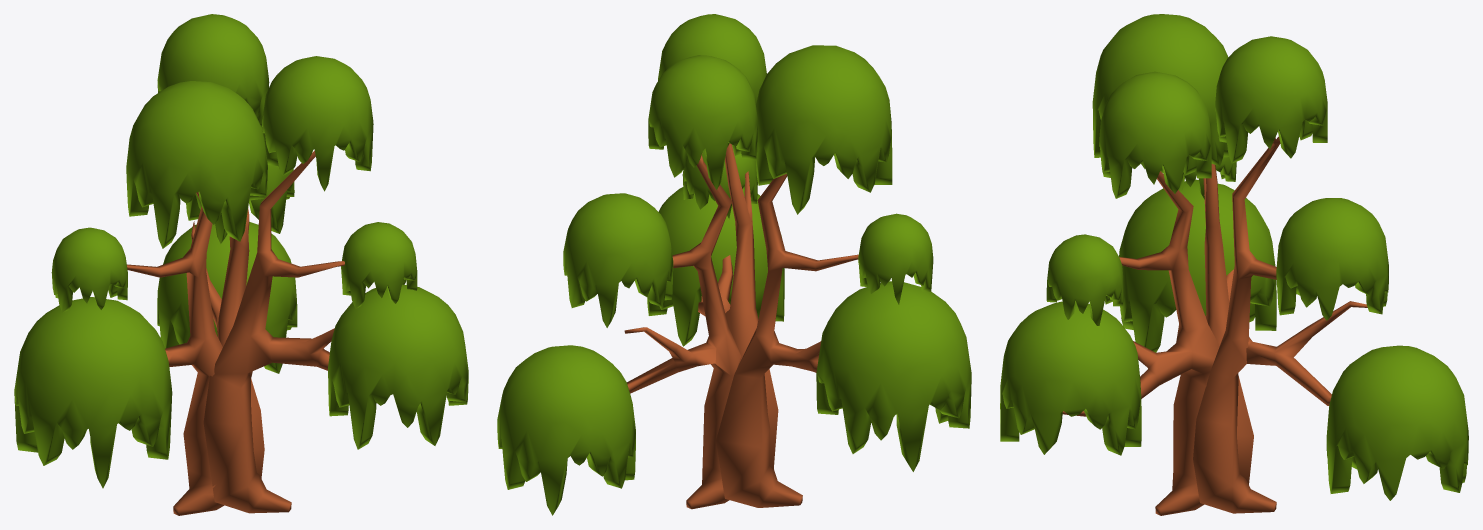
Rendered from Highway Control Ag╠åac╠ğ 4.fbx.
3 views of the same model, side by side, from view 1: azimuth 30°, elevation 25°; view 2: azimuth 150°, elevation 25°; view 3: azimuth 270°, elevation 25° (orthographic). The views are drawn at different scales.
Visible parts, largest first — view 1: ağaç 3.001; view 2: ağaç 3.001; view 3: ağaç 3.001.
Boxes of the visible parts, left/top/right/bottom form: ağaç 3.001: left=14, top=14, right=468, bottom=515; ağaç 3.001: left=497, top=14, right=971, bottom=515; ağaç 3.001: left=1000, top=14, right=1468, bottom=515.
Bounding box in the file's own units: 274 × 325 × 295.
Materials: 1 (1 with a texture image).
